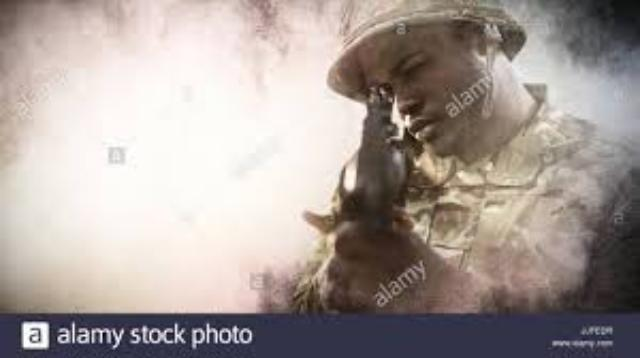other: (342, 15, 552, 313)
